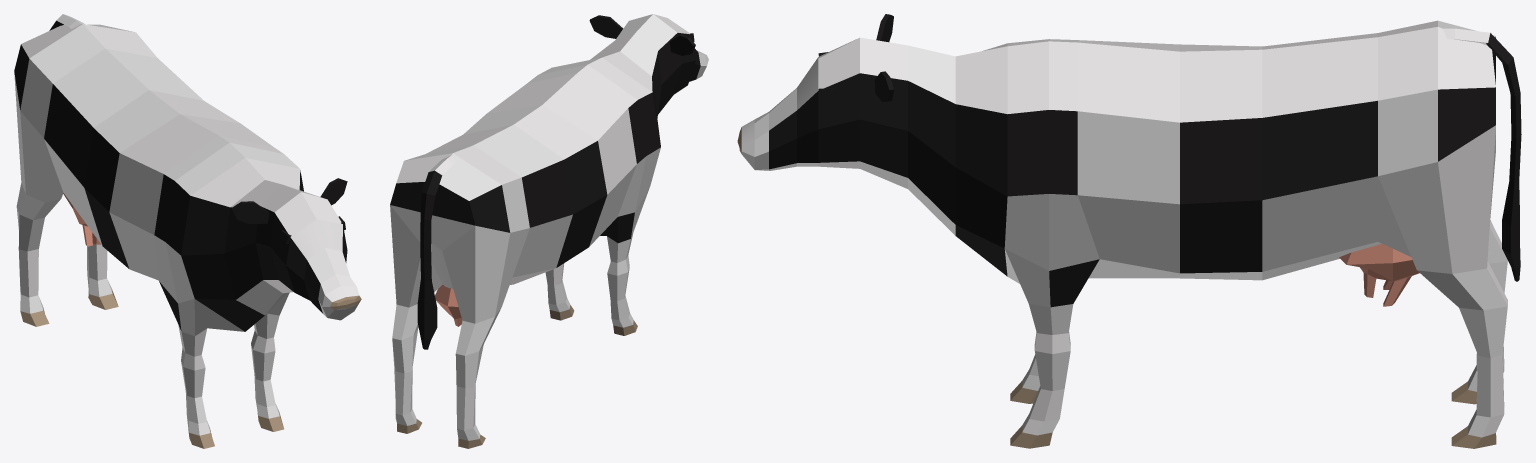
The picture shows the model from 3 angles, left to right: view 1: azimuth 30°, elevation 25°; view 2: azimuth 150°, elevation 25°; view 3: azimuth 270°, elevation 25°; orthographic projection. The views are drawn at different scales.
Parts seen in each view (by area): view 1: Geo_Cow; view 2: Geo_Cow; view 3: Geo_Cow.
Part boxes in pixels (x1,y1,x2,y2): Geo_Cow: (14,14,361,448); Geo_Cow: (390,14,708,448); Geo_Cow: (737,14,1521,448).
Bounding box in the file's own units: 72.82 × 146 × 264.
Materials: 1 (1 with a texture image).
